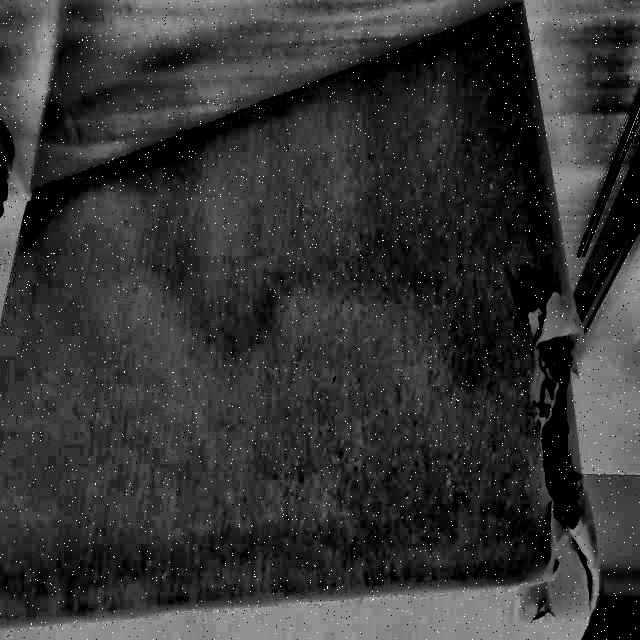box: (1, 1, 614, 640)
hole: (523, 304, 589, 552)
